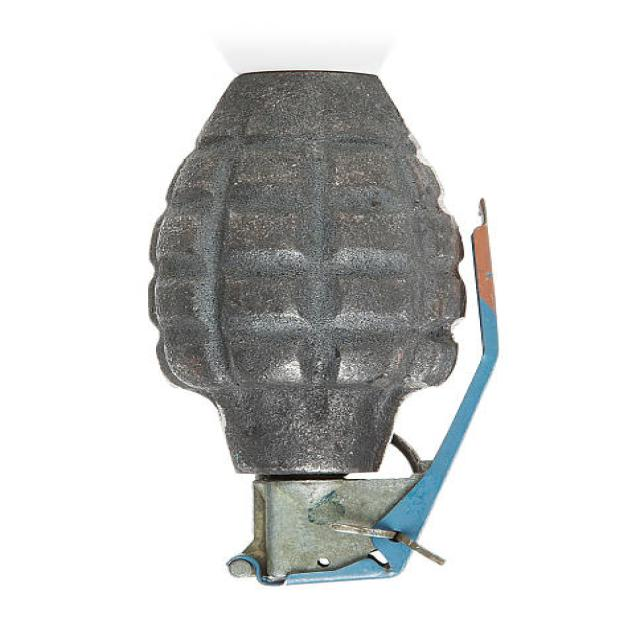grenade: (122, 60, 523, 596)
